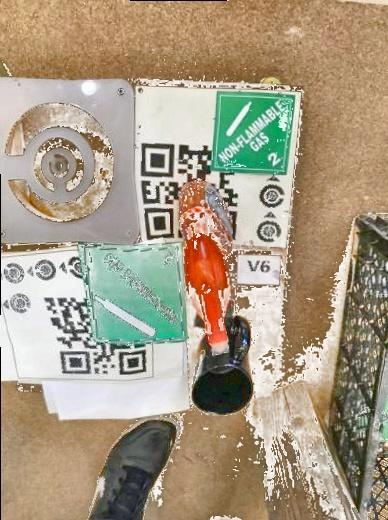non-flammable-gas: (78, 239, 190, 349), (210, 91, 296, 176)
